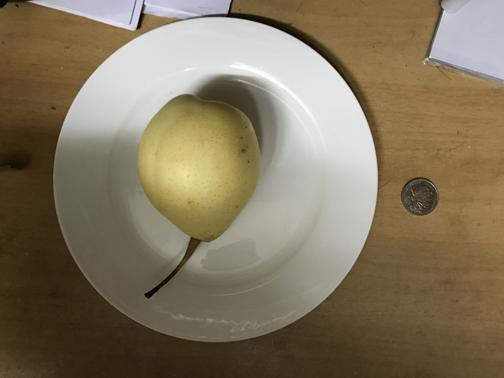coin: (400, 176, 439, 216)
pear: (139, 96, 263, 240)
